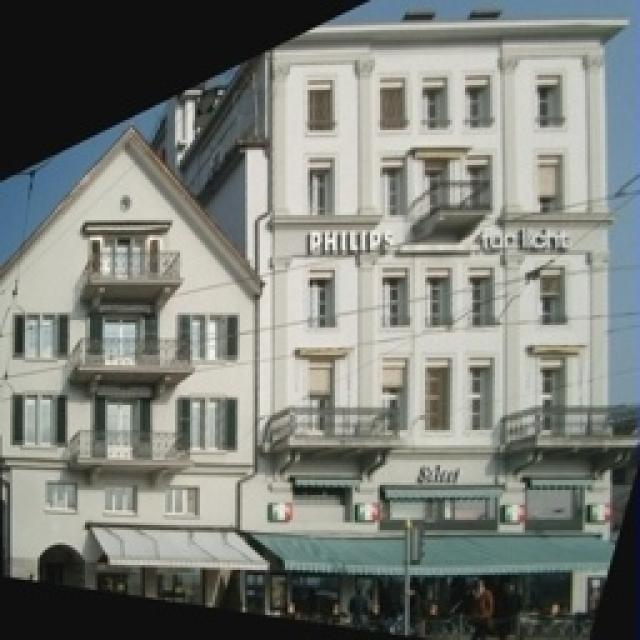building: (258, 20, 630, 628), (5, 122, 257, 608)
